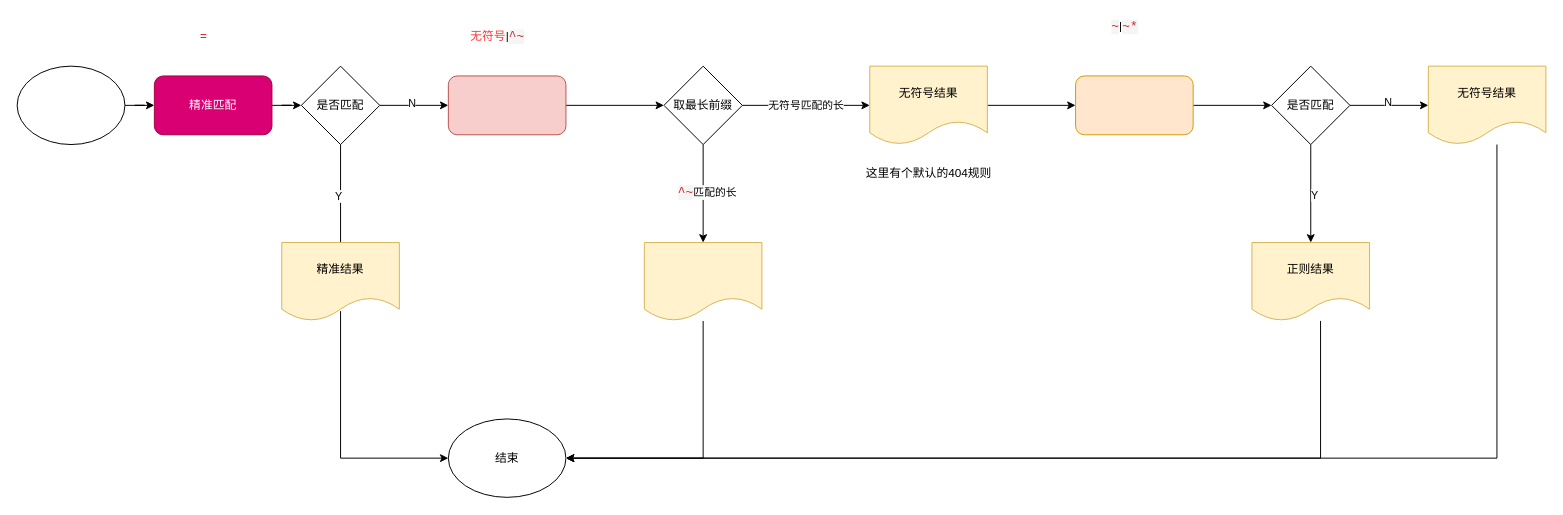
Some shapes in this 1563 by 515 pixel diagram are drawn without their labels. The shapes that lost their labels are listed below. From the top down, each one's centre as x and y in pixels, then its label:
At pixel 70 105: "开始".
At pixel 506 105: "前缀匹配".
At pixel 1134 105: "正则匹配".
At pixel 702 281: "^~ 结果".
